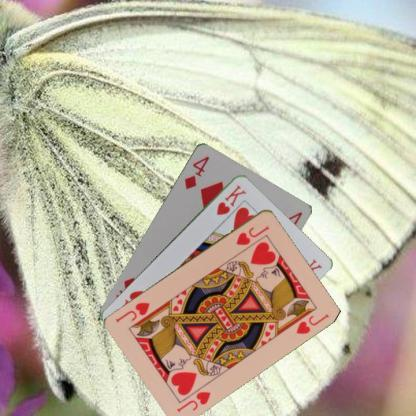4d: (182, 153, 210, 191)
Jh: (233, 222, 271, 247), (174, 388, 212, 413)
Kh: (214, 182, 248, 216)
